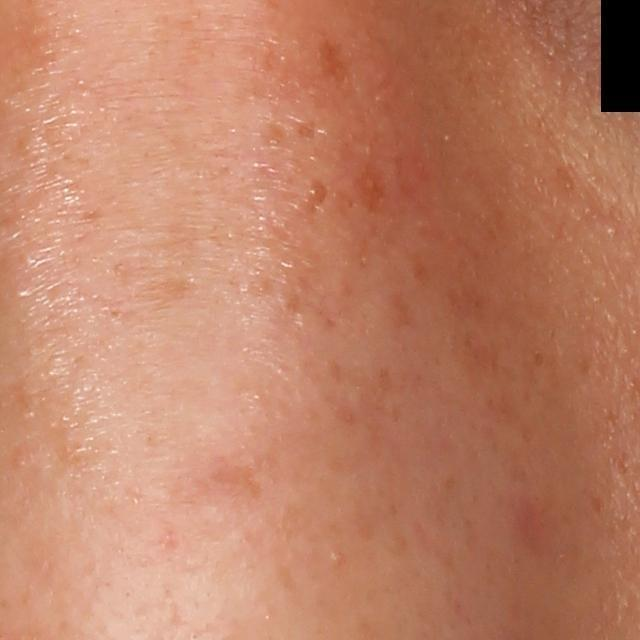melasma: (111, 259, 199, 313), (443, 257, 491, 325), (312, 37, 356, 91), (348, 162, 386, 217), (390, 290, 421, 332), (257, 112, 289, 147), (303, 179, 329, 216), (402, 247, 430, 280), (294, 119, 316, 139)
